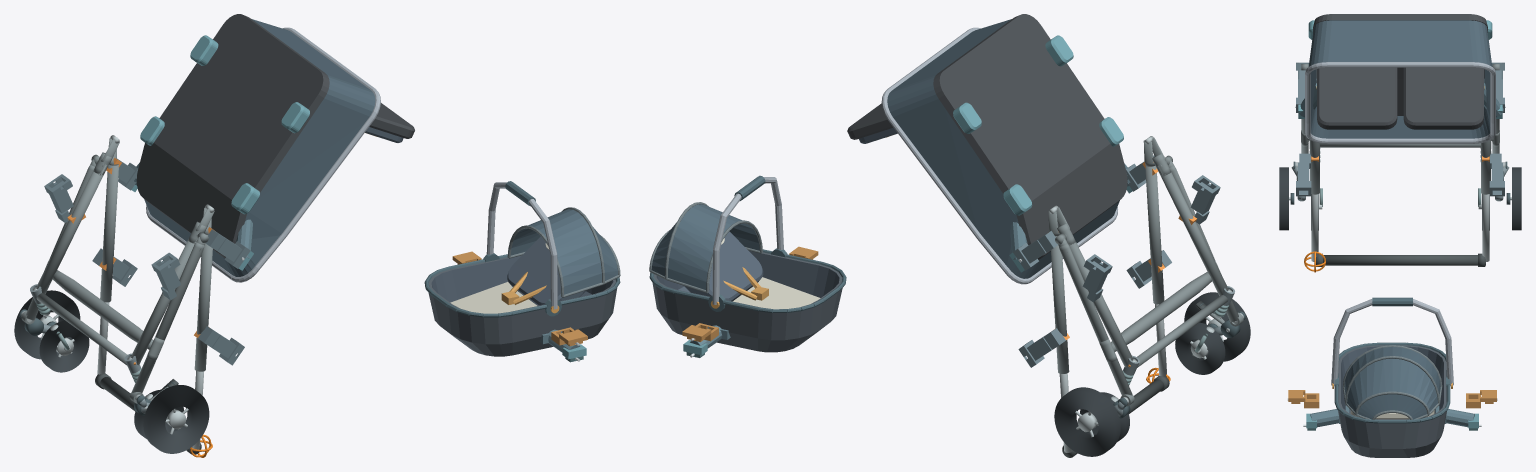
The model's file is D32_w650_state3_wheel_S.glb.
3 views of the same model, side by side, from view 1: azimuth 30°, elevation 25°; view 2: azimuth 150°, elevation 25°; view 3: azimuth 270°, elevation 25° (orthographic). The views are drawn at different scales.
Parts seen in each view (by area): view 1: D32_Lower, D32_Upper, RL_tire.011, FR_tire.011, main_upper_1.012, main_lower_1.012, V46_rearbar.011, V46_rear_leg_-1.011, main_upper_-1.012, RR_tire.011, main_lower_-1.012, front_fixed_round_tube.011 (+4 smaller); view 2: D32_Lower, D32_Upper, RR_tire.011, FL_tire.011, main_upper_-1.012, main_lower_-1.012, V46_rearbar.011, V46_rear_leg_1.011, main_upper_1.012, RL_tire.011, main_lower_1.012, front_fixed_round_tube.011 (+5 smaller); view 3: D32_Lower, D32_Upper, round_handle.013, D32_Upper_Mount_H, front_fixed_round_tube.011, RL_tire.011, RR_tire.011, Universal_Cabin_Receiver_H_1, Universal_Cabin_Receiver_H_-1, handle_slider_1.013, handle_slider_-1.013, main_upper_1.012 (+6 smaller).
Boxes of the visible parts, x1=… form: D32_Lower: x1=136, y1=14, x2=414, y2=282; D32_Upper: x1=424, y1=181, x2=620, y2=356; RL_tire.011: x1=143, y1=385, x2=209, y2=453; FR_tire.011: x1=39, y1=320, x2=89, y2=372; main_upper_1.012: x1=100, y1=164, x2=118, y2=302; main_lower_1.012: x1=36, y1=164, x2=106, y2=293; V46_rearbar.011: x1=52, y1=270, x2=153, y2=349; V46_rear_leg_-1.011: x1=132, y1=242, x2=204, y2=392; main_upper_-1.012: x1=194, y1=235, x2=212, y2=371; RR_tire.011: x1=14, y1=290, x2=80, y2=359; main_lower_-1.012: x1=131, y1=239, x2=197, y2=365; front_fixed_round_tube.011: x1=36, y1=293, x2=127, y2=365; D32_Lower: x1=847, y1=14, x2=1127, y2=284; D32_Upper: x1=649, y1=175, x2=846, y2=352; RR_tire.011: x1=1054, y1=387, x2=1120, y2=456; FL_tire.011: x1=1175, y1=322, x2=1225, y2=374; main_upper_-1.012: x1=1145, y1=165, x2=1164, y2=304; main_lower_-1.012: x1=1157, y1=165, x2=1228, y2=295; V46_rearbar.011: x1=1110, y1=272, x2=1211, y2=351; V46_rear_leg_1.011: x1=1059, y1=243, x2=1132, y2=395; main_upper_1.012: x1=1051, y1=236, x2=1069, y2=373; RL_tire.011: x1=1184, y1=292, x2=1250, y2=361; main_lower_1.012: x1=1067, y1=242, x2=1133, y2=367; front_fixed_round_tube.011: x1=1137, y1=295, x2=1228, y2=367; D32_Lower: x1=1305, y1=14, x2=1495, y2=143; D32_Upper: x1=1331, y1=297, x2=1453, y2=457; round_handle.013: x1=1323, y1=255, x2=1485, y2=265; D32_Upper_Mount_H: x1=1303, y1=405, x2=1481, y2=430; front_fixed_round_tube.011: x1=1320, y1=143, x2=1480, y2=147; RL_tire.011: x1=1279, y1=167, x2=1288, y2=230; RR_tire.011: x1=1512, y1=167, x2=1521, y2=230; Universal_Cabin_Receiver_H_1: x1=1489, y1=153, x2=1504, y2=196; Universal_Cabin_Receiver_H_-1: x1=1296, y1=153, x2=1311, y2=196; handle_slider_1.013: x1=1482, y1=194, x2=1489, y2=261; handle_slider_-1.013: x1=1311, y1=194, x2=1318, y2=261; main_upper_1.012: x1=1481, y1=140, x2=1490, y2=194.
Bounding box in the file's own units: 1.73 × 1.1 × 0.766.
